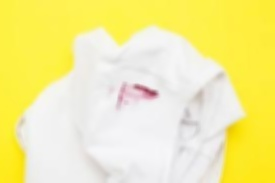lipstick: (114, 82, 163, 110)
